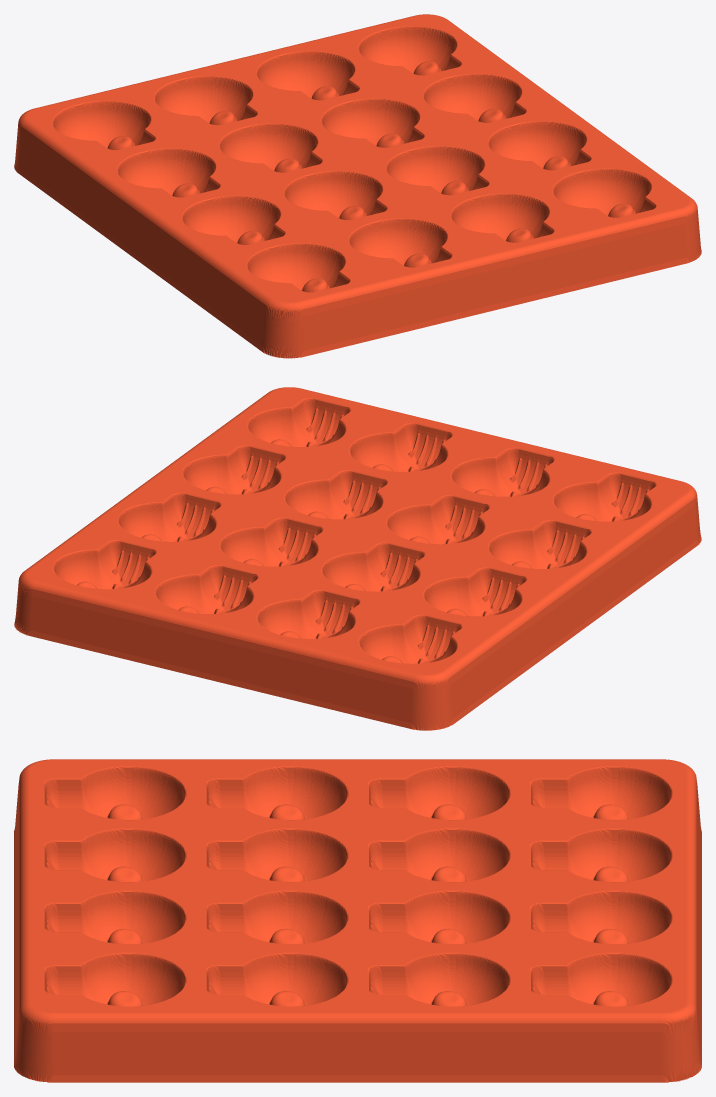
File: mold.glb
3 views of the same model, one above another, from view 1: azimuth 30°, elevation 25°; view 2: azimuth 150°, elevation 25°; view 3: azimuth 270°, elevation 25° (orthographic). The views are drawn at different scales.
Visible parts, largest first — view 1: geometry_0; view 2: geometry_0; view 3: geometry_0.
Boxes of the visible parts, x1,y1,x2,y2 form: geometry_0: [14, 14, 701, 358]; geometry_0: [14, 387, 701, 730]; geometry_0: [14, 759, 701, 1082].
Bounding box in the file's own units: 0.1434 × 0.0159 × 0.1569.
